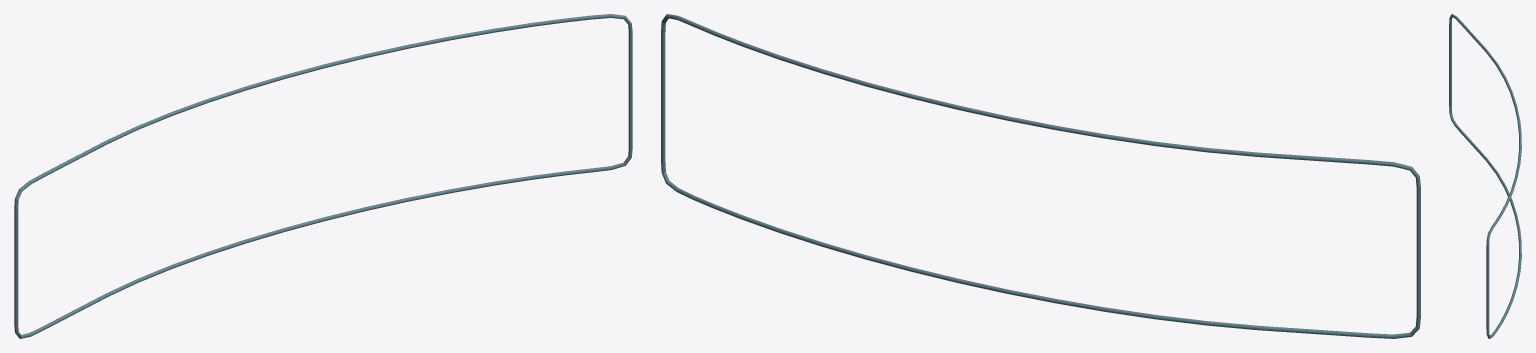
The model's file is Object-frame.glb.
3 views of the same model, side by side, from view 1: azimuth 30°, elevation 25°; view 2: azimuth 150°, elevation 25°; view 3: azimuth 270°, elevation 25° (orthographic). The views are drawn at different scales.
Parts seen in each view (by area): view 1: Object-frame.001; view 2: Object-frame.001; view 3: Object-frame.001.
Part boxes in pixels (x1,y1,x2,y2): Object-frame.001: (14,14,632,338); Object-frame.001: (661,14,1420,338); Object-frame.001: (1449,14,1521,338).
Size of the model in its own units: 6.19 by 1.44 by 0.8527.
